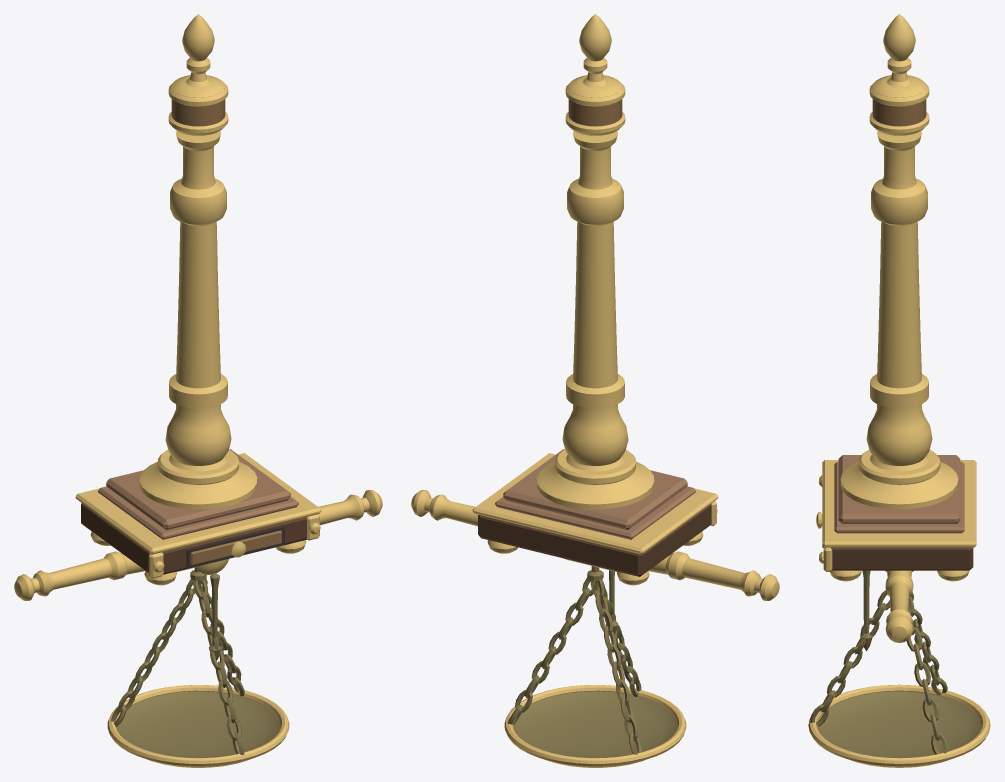
The model's file is scale_body.glb.
3 renders of one model, left to right at view 1: azimuth 30°, elevation 25°; view 2: azimuth 150°, elevation 25°; view 3: azimuth 270°, elevation 25°, orthographic.
Visible parts, largest first — view 1: ScaleBody, ScalePan, ScaleBeam; view 2: ScaleBody, ScalePan, ScaleBeam; view 3: ScaleBody, ScalePan, ScaleBeam.
Part boxes in pixels (x1,y1,x2,y2): ScaleBody: (75,14,321,585); ScalePan: (107,567,289,767); ScaleBeam: (14,490,382,660); ScaleBody: (472,14,718,585); ScalePan: (504,566,686,767); ScaleBeam: (411,490,779,635); ScaleBody: (816,14,976,581); ScalePan: (808,590,990,767); ScaleBeam: (860,570,913,651).
Size of the model in its own units: 48.4 by 93.6 by 21.
